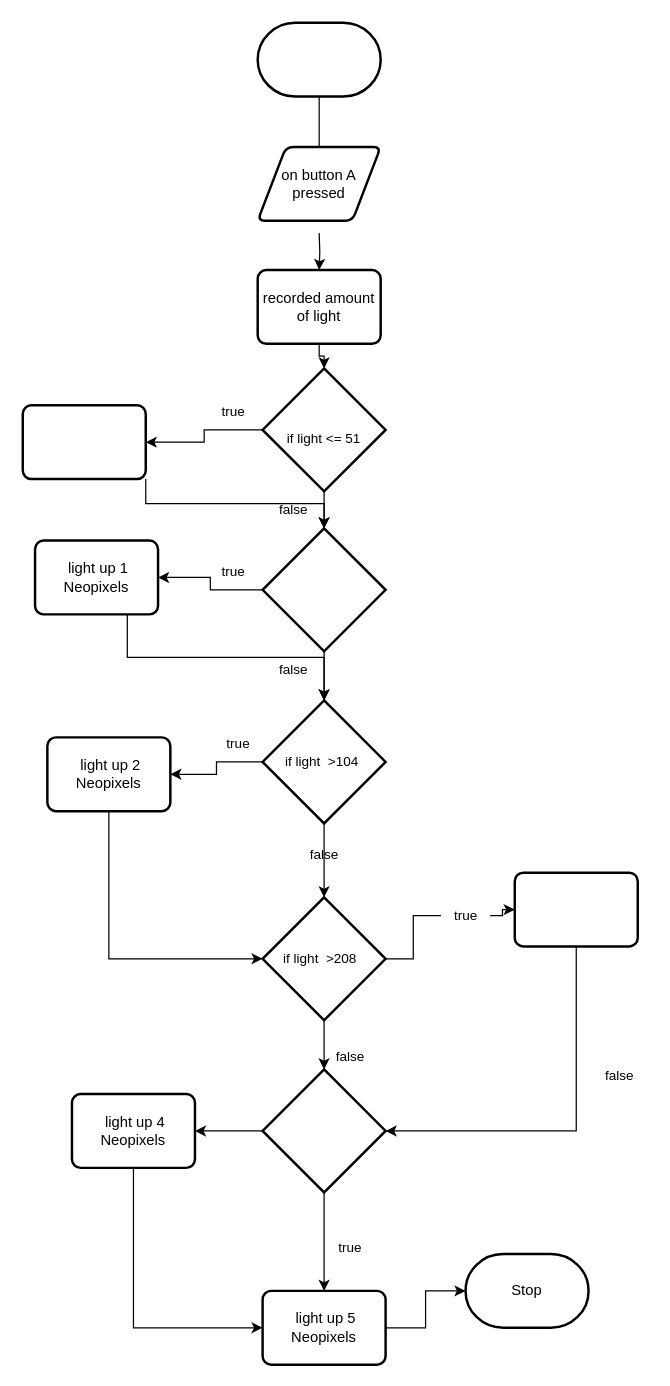
Some shapes in this 670 by 1386 pixel diagram are drawn without their labels. The shapes that lost their labels are listed below. From the top down, each one's box as (x1, y1, x2, y2) in pixels, then its label:
(256, 21, 381, 97): Start
(21, 403, 146, 480): light up 0 Neopixels
(261, 526, 386, 652): if light > 52
(513, 871, 638, 947): light up 3 Neopixels
(261, 1068, 386, 1193): if light > 156
